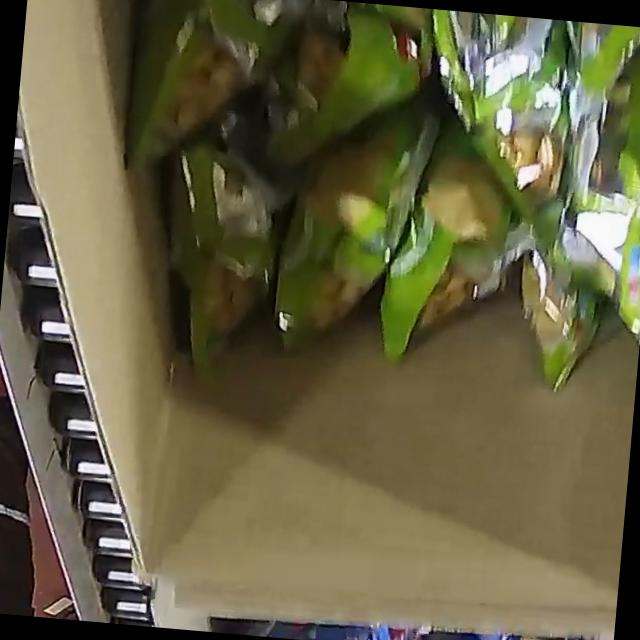yogurt: (159, 0, 640, 444)
